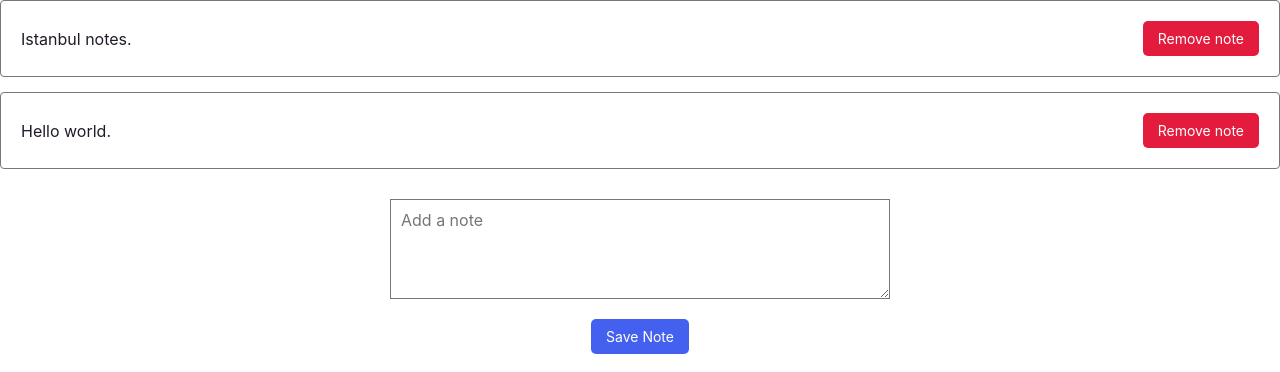
it: CityNotes › edits existing notes
Check: the text box is empty, box top-left (390, 199), bottom-right (890, 299)
Click the text "Istanbul notes." at (76, 38), box top-left (21, 28), bottom-right (132, 48)
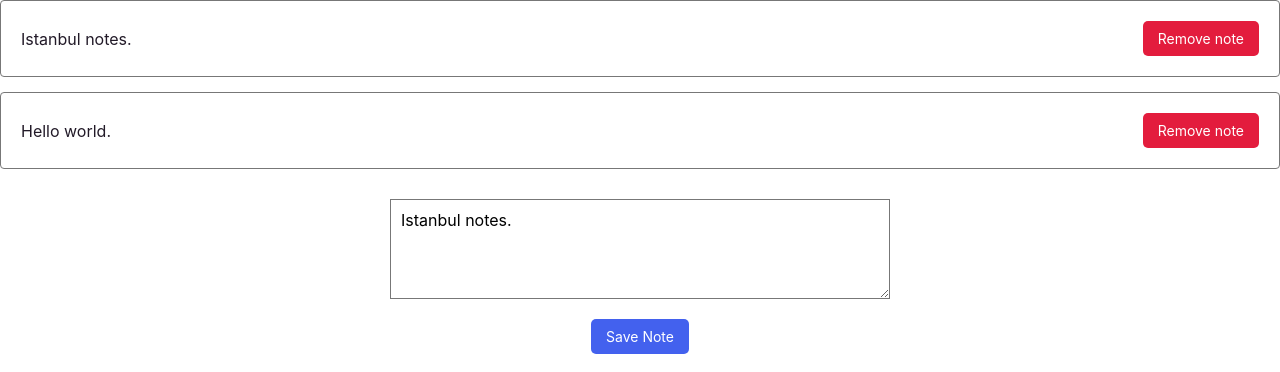
Check: the text box holds "Istanbul notes."
Type " Addition!" into the text box at (640, 249), box top-left (390, 199), bottom-right (890, 299)
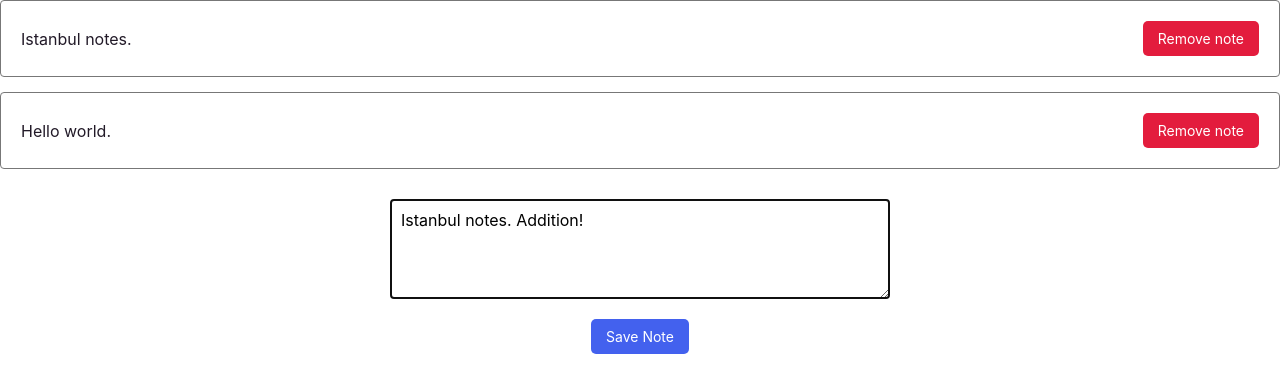
Click the button "Save Note" at (640, 336), box top-left (591, 319), bottom-right (689, 354)
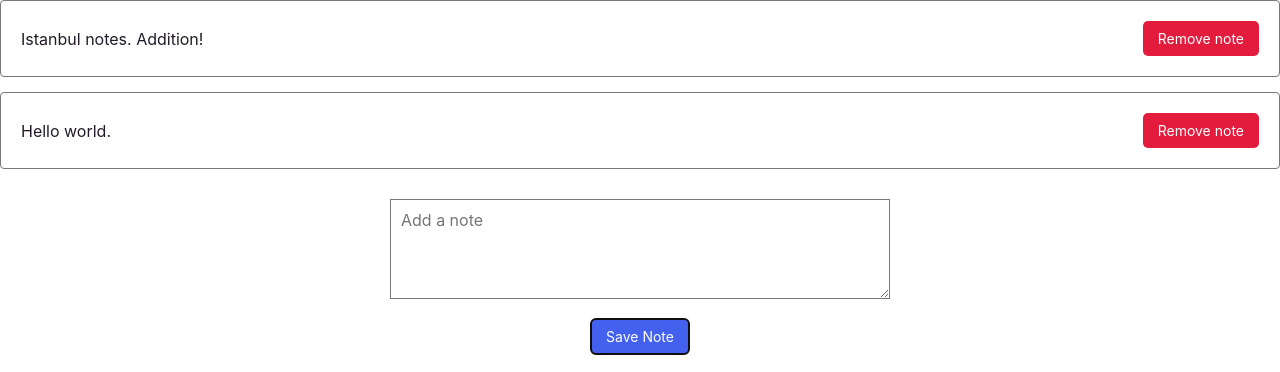
Check: the text "Hello world." is shown, box top-left (21, 120), bottom-right (111, 140)
Check: the text "Istanbul notes. Addition!" is shown, box top-left (21, 28), bottom-right (203, 48)
Check: the text box is empty, box top-left (390, 199), bottom-right (890, 299)
